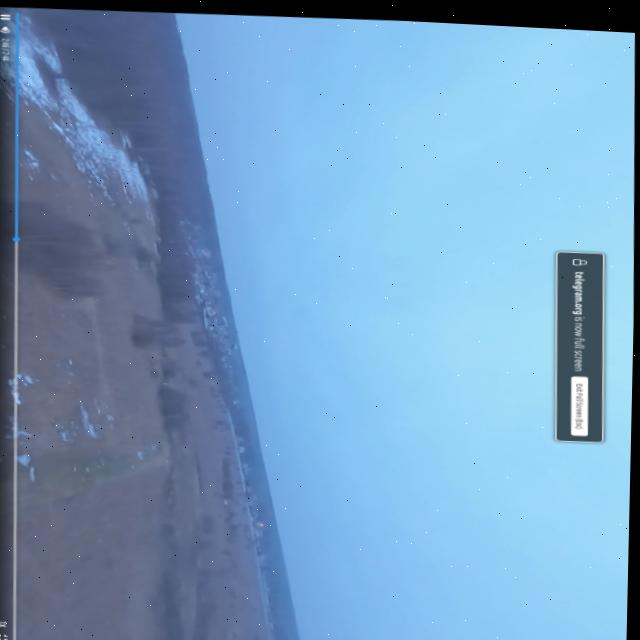planedrone: (196, 300, 212, 343)
